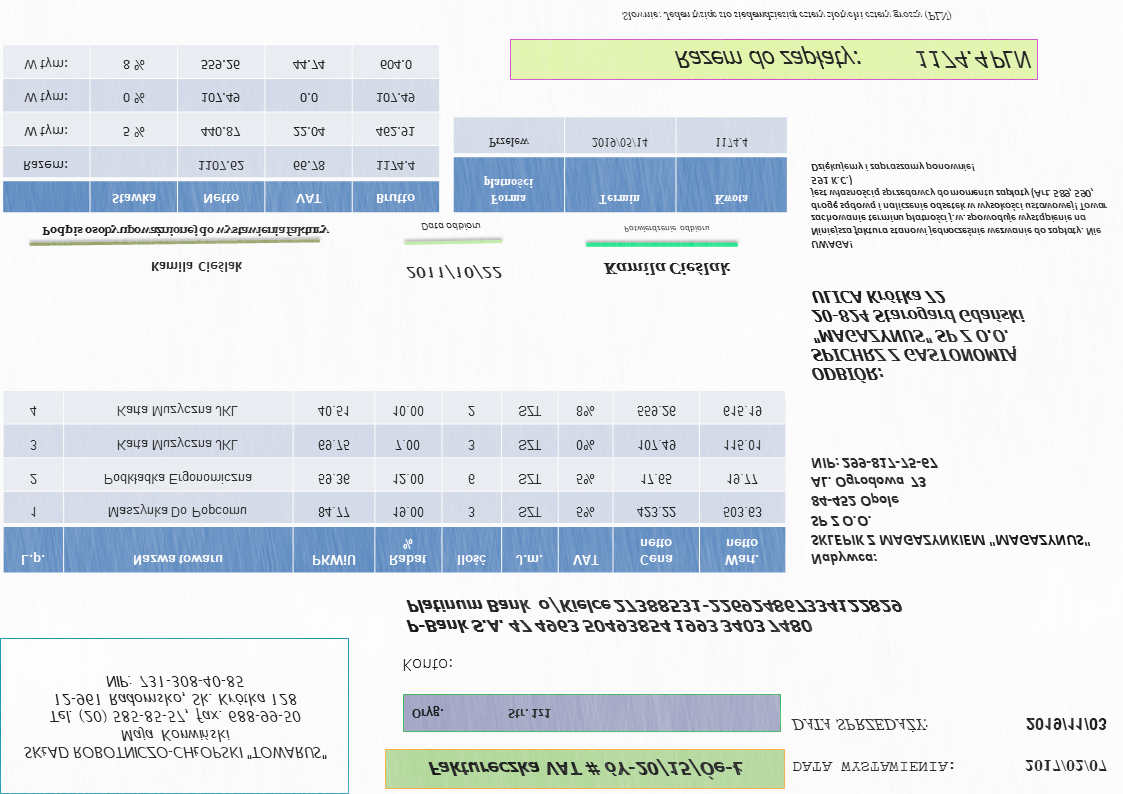Table: (2, 390, 786, 575), (2, 45, 442, 214), (452, 115, 788, 215)
TextBox: (808, 453, 1093, 569), (808, 159, 1111, 251), (21, 673, 330, 763), (810, 287, 1029, 384), (403, 596, 903, 637), (672, 45, 1034, 76), (425, 755, 746, 781), (620, 7, 954, 26), (38, 221, 331, 241), (788, 757, 957, 776), (409, 702, 552, 723), (602, 259, 734, 280), (790, 716, 931, 735), (404, 263, 504, 283), (1023, 755, 1109, 777), (1023, 714, 1109, 735), (148, 258, 244, 275), (621, 223, 711, 236), (399, 654, 454, 674), (418, 219, 481, 233)
